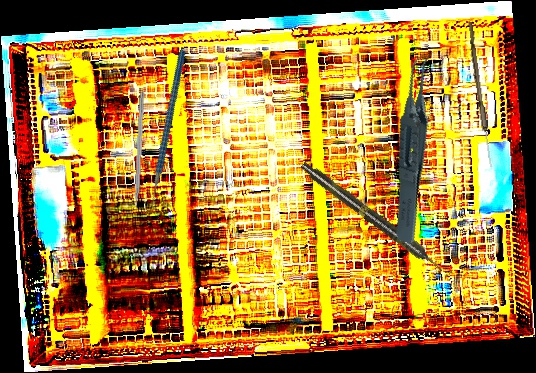Chopper: (101, 49, 239, 219), (126, 91, 145, 219)
Handpiece: (298, 158, 447, 277)
Surgical Spoon: (465, 21, 495, 168)
Tissue Forceps: (357, 46, 476, 246)
